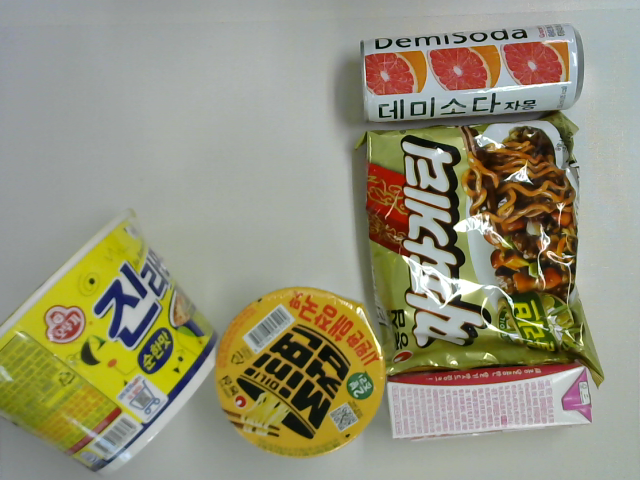Demisoda_Grapefruit_Can_250ml: (355, 15, 588, 128)
Hejangmini: (207, 284, 386, 460)
Jinlamyeon_Mild_Taste_Large_Cup: (1, 199, 219, 480)
Olive_Chapaghetti: (355, 110, 603, 391)
Strawberry_E_Mong: (382, 358, 596, 442)
